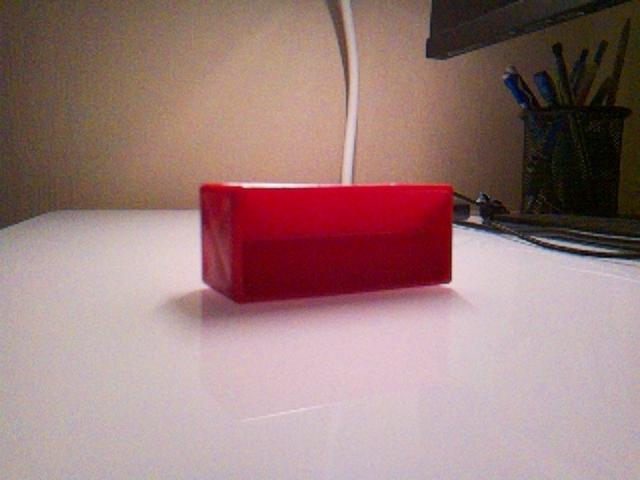red: (198, 180, 455, 304)
